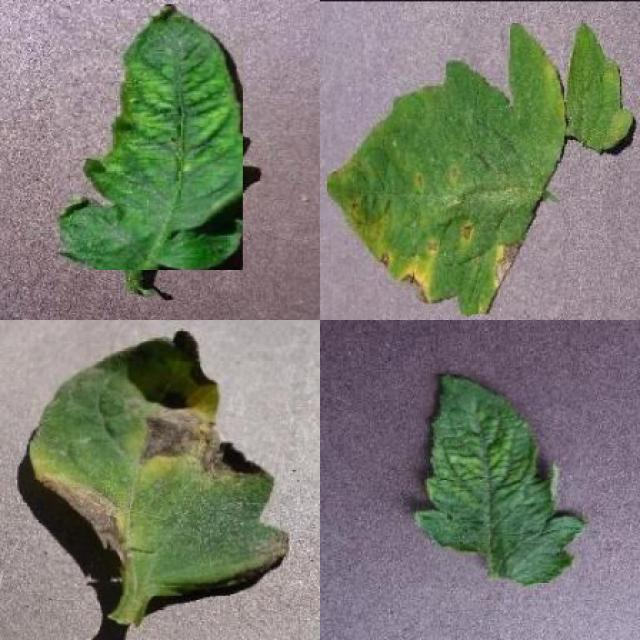Early Blight: (27, 330, 289, 596)
Mosaic Virus: (54, 4, 243, 270), (415, 374, 591, 583)
Septoria: (328, 24, 565, 315)
